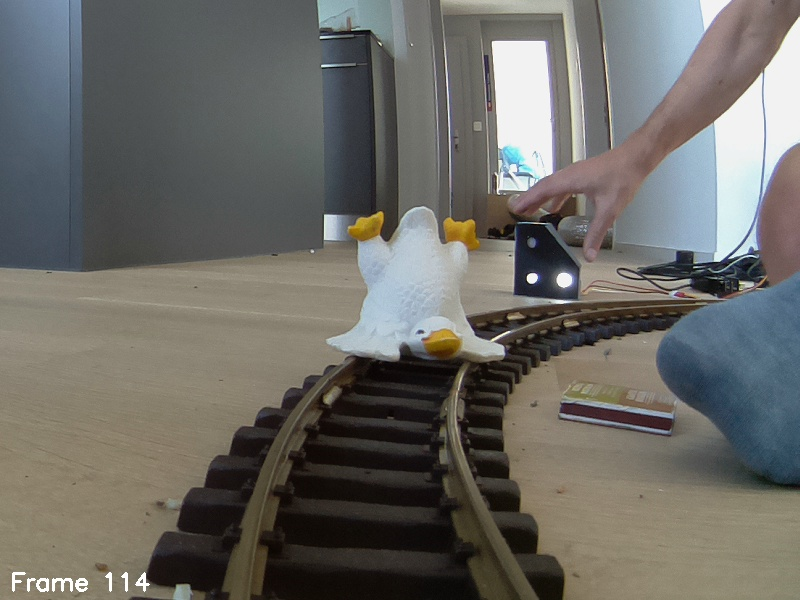Halt: (515, 222, 580, 297)
